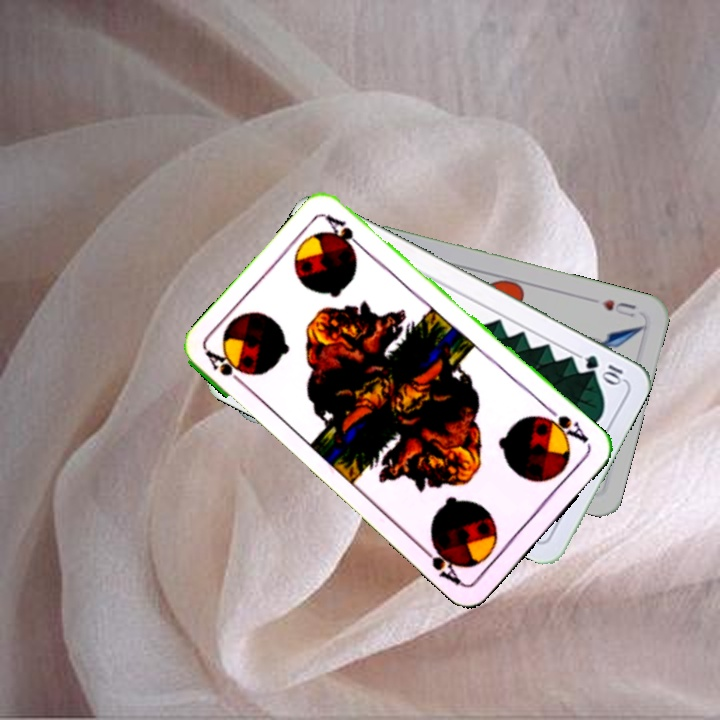G10: (580, 350, 626, 387)
HU: (598, 295, 639, 320)
SA: (537, 403, 592, 446), (201, 346, 252, 391)
